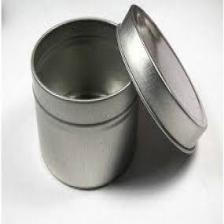metal: (29, 3, 138, 199), (122, 12, 208, 160)
